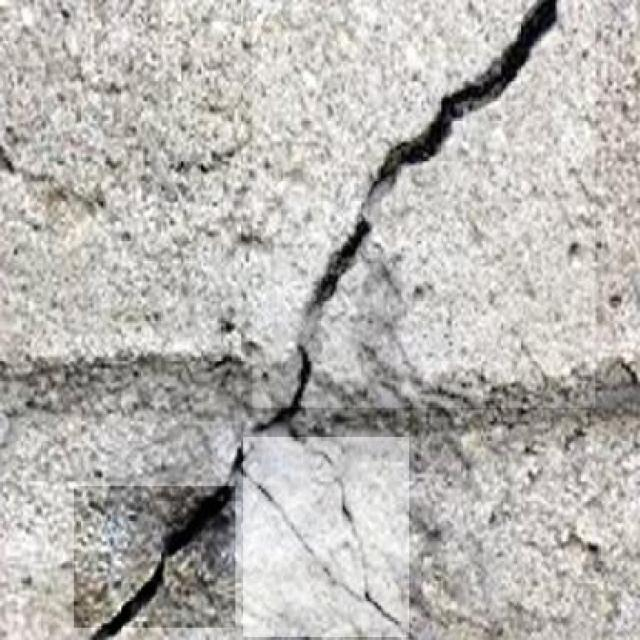Crack: (269, 0, 558, 409), (247, 442, 404, 634), (75, 488, 236, 637)
